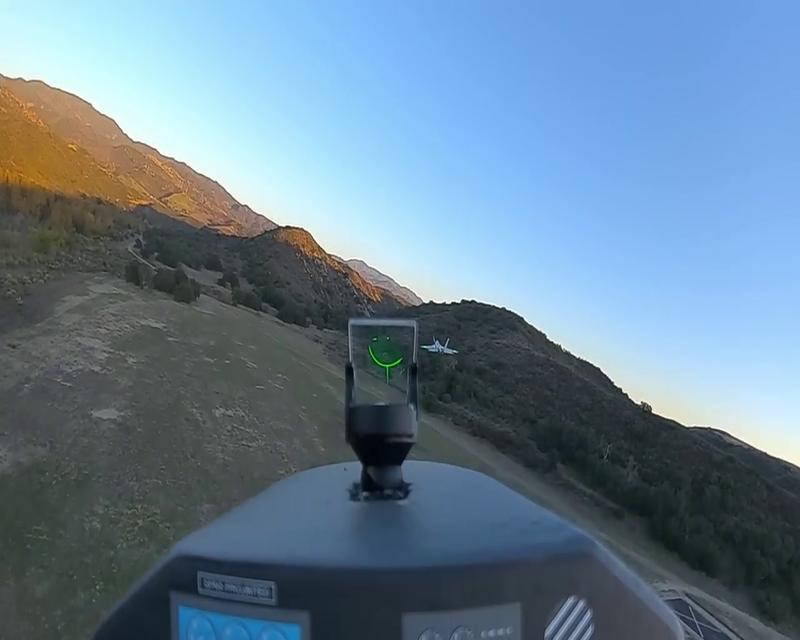UAV: (420, 334, 458, 357)
